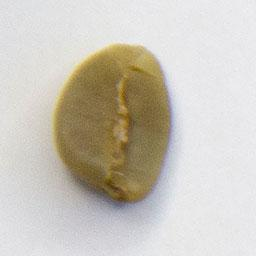premium: (49, 40, 178, 206)
